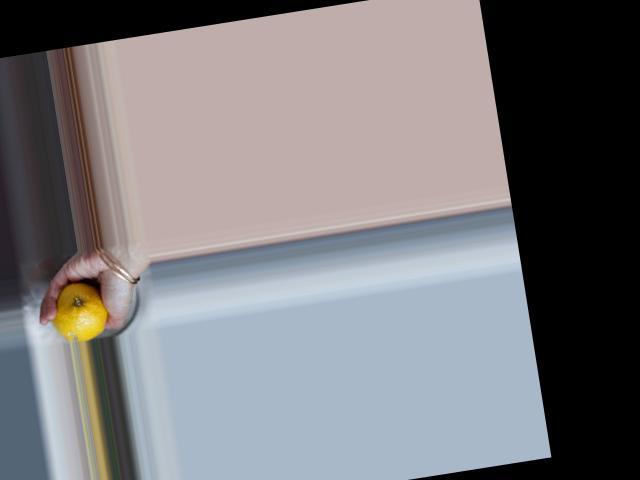lemon: (47, 278, 107, 343)
